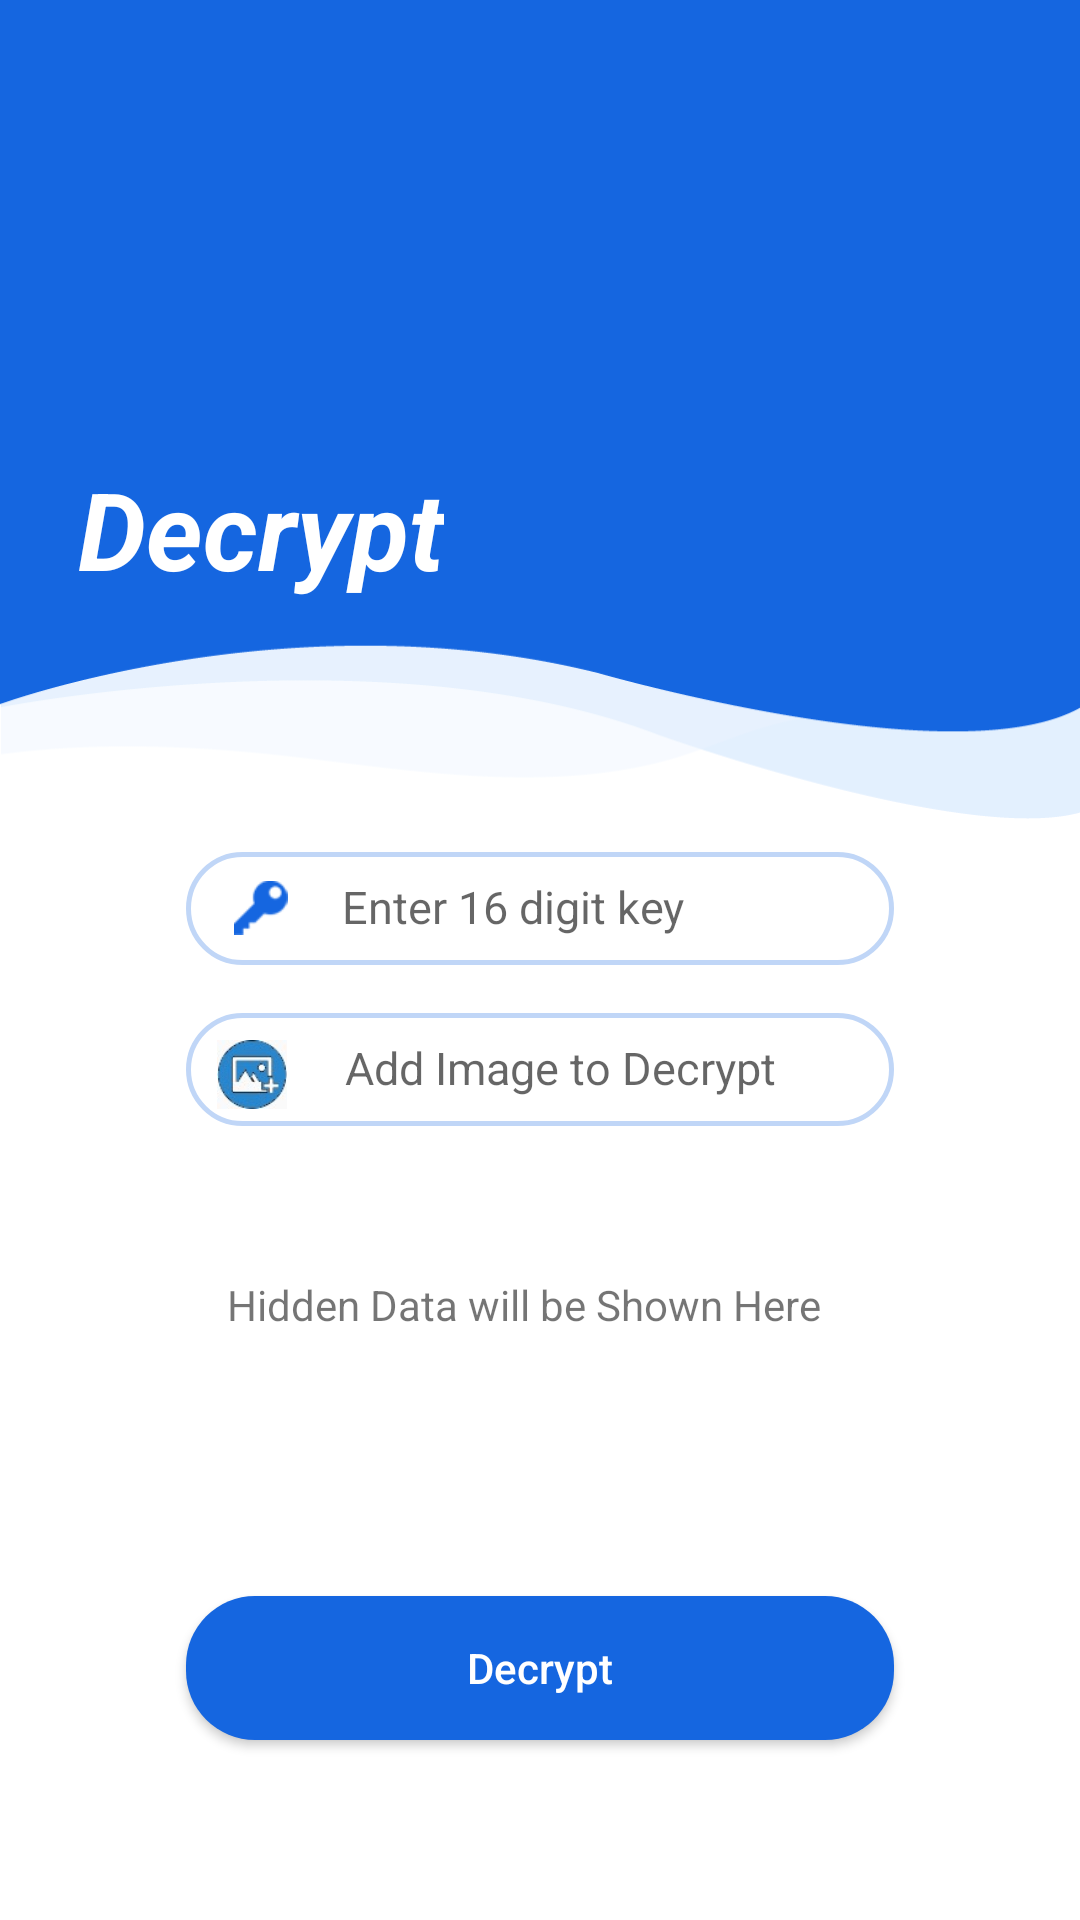

Icons on this 1080*1920 Android screen, each with its box as {"x1": x1, "y1": y1, "x2": x2, "y2": y2}:
imageedit: {"x1": 217, "y1": 1040, "x2": 287, "y2": 1109}
keyimg: {"x1": 234, "y1": 881, "x2": 288, "y2": 935}
